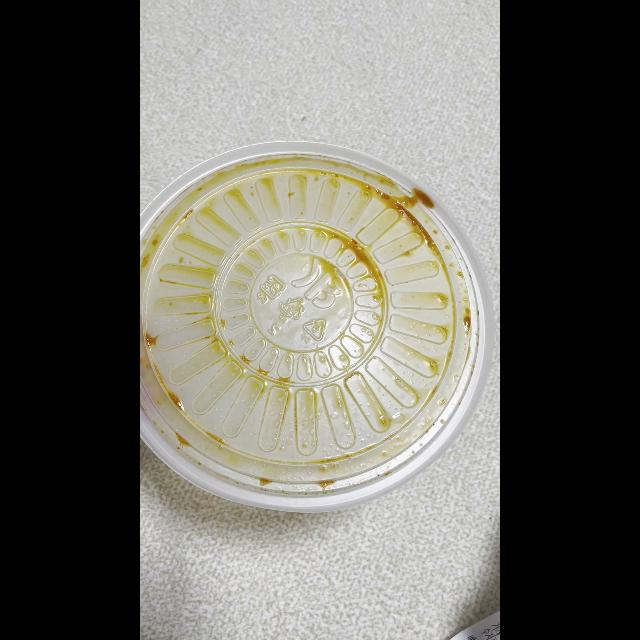dirty: (141, 140, 479, 502)
